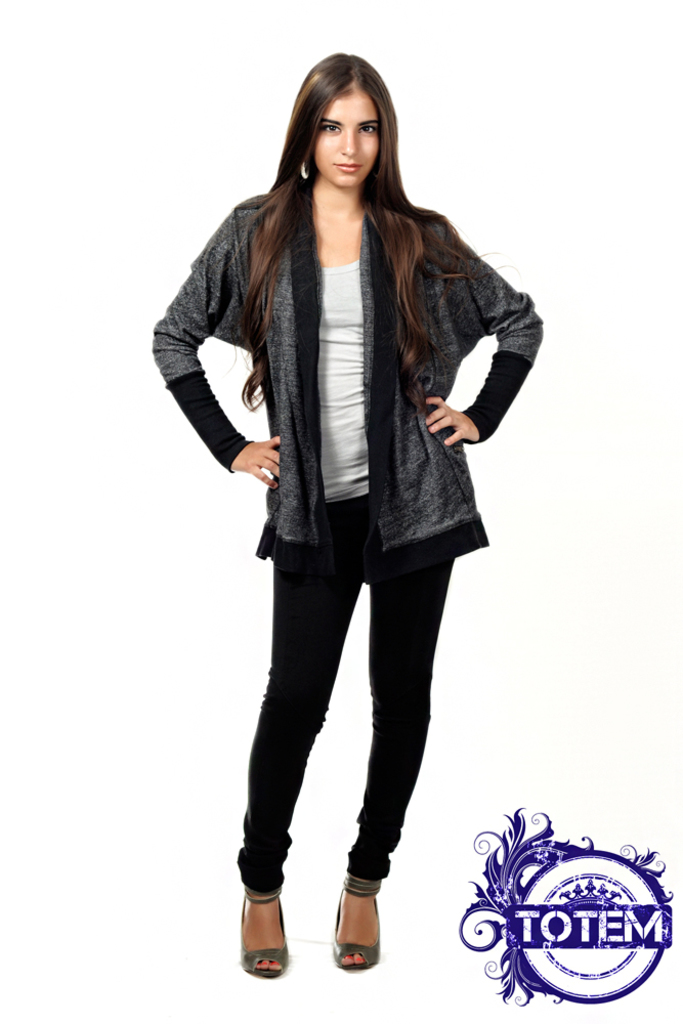Human_hand: (425, 395, 476, 447), (233, 435, 282, 483)
